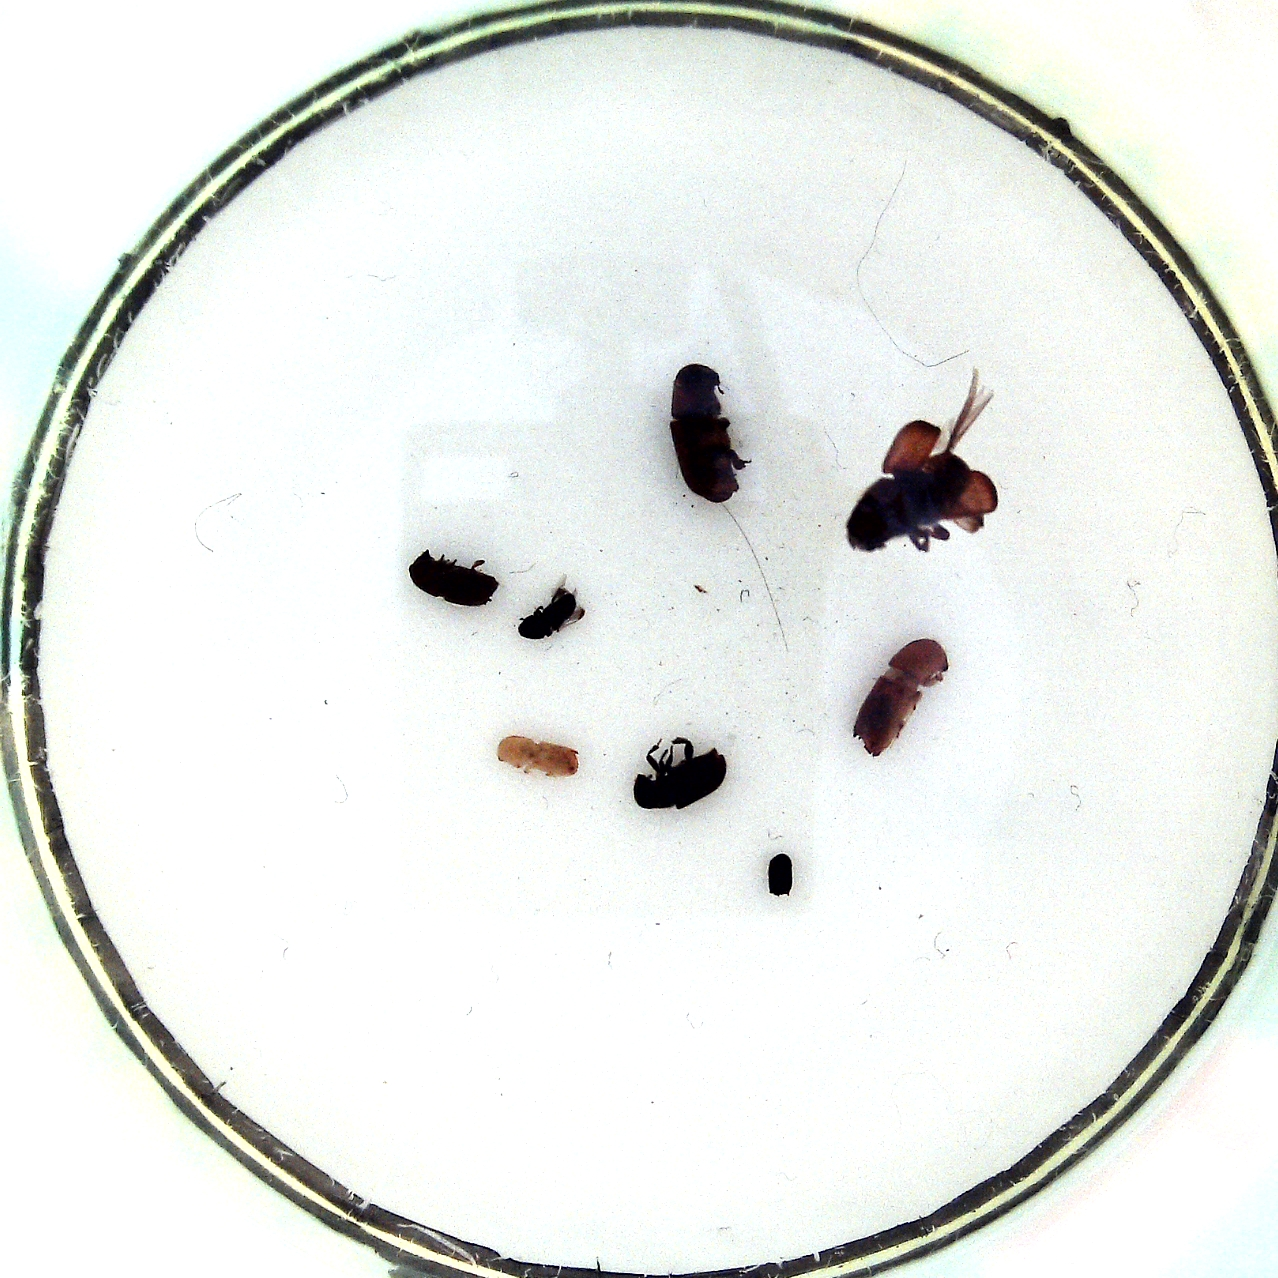Boerner: (847, 631, 957, 762)
Leconte: (834, 364, 1004, 561), (667, 359, 755, 511)
Linnaeus: (404, 541, 506, 610)
acuminatus: (492, 724, 585, 783)
armandi: (630, 731, 731, 813)
coleoptera: (511, 572, 591, 644), (763, 847, 799, 901)
